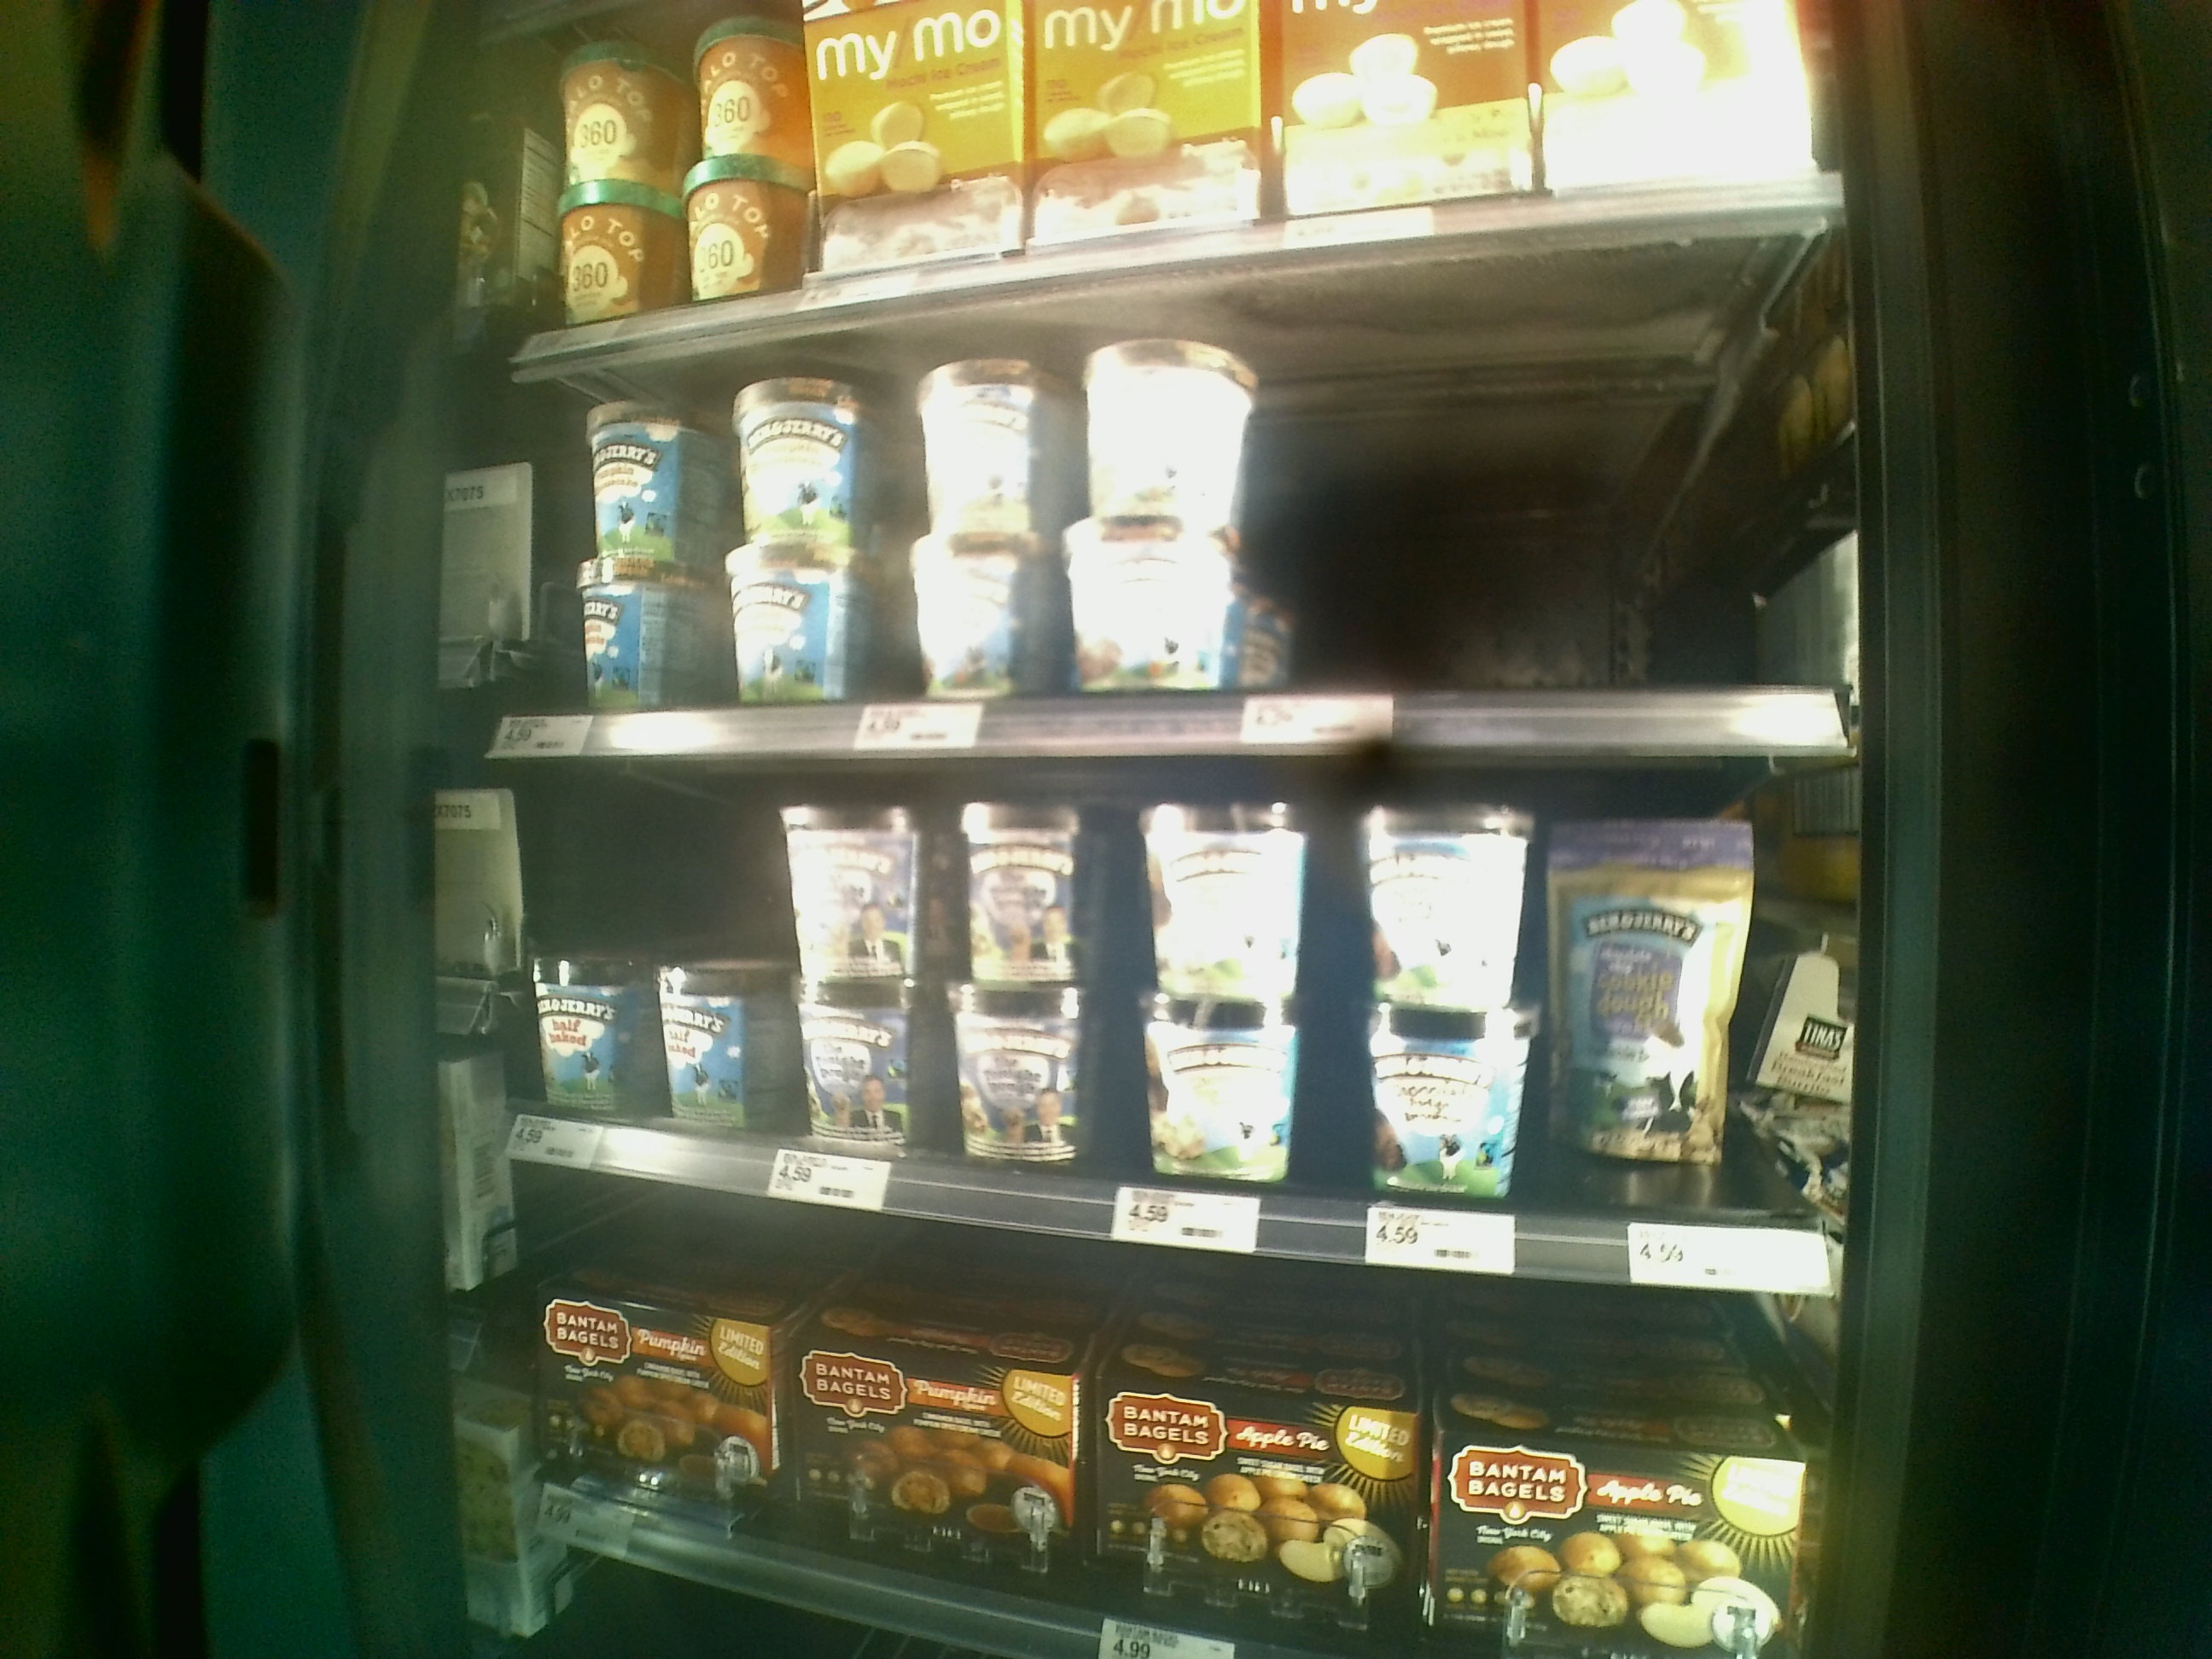shelf: (482, 741, 1832, 1283), (488, 338, 1839, 732)
